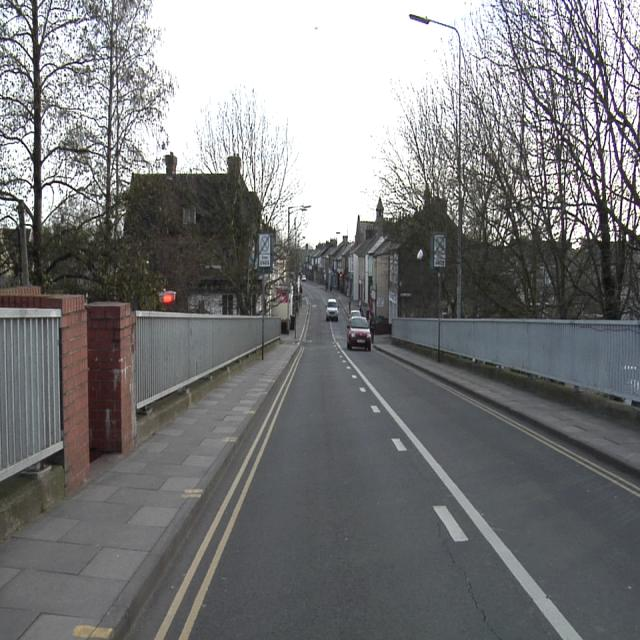Building: (303, 205, 399, 326)
Car: (348, 313, 371, 350), (326, 299, 338, 320)
Road: (188, 287, 635, 639)
Tree: (0, 0, 295, 312), (462, 0, 640, 318), (381, 75, 454, 214)
